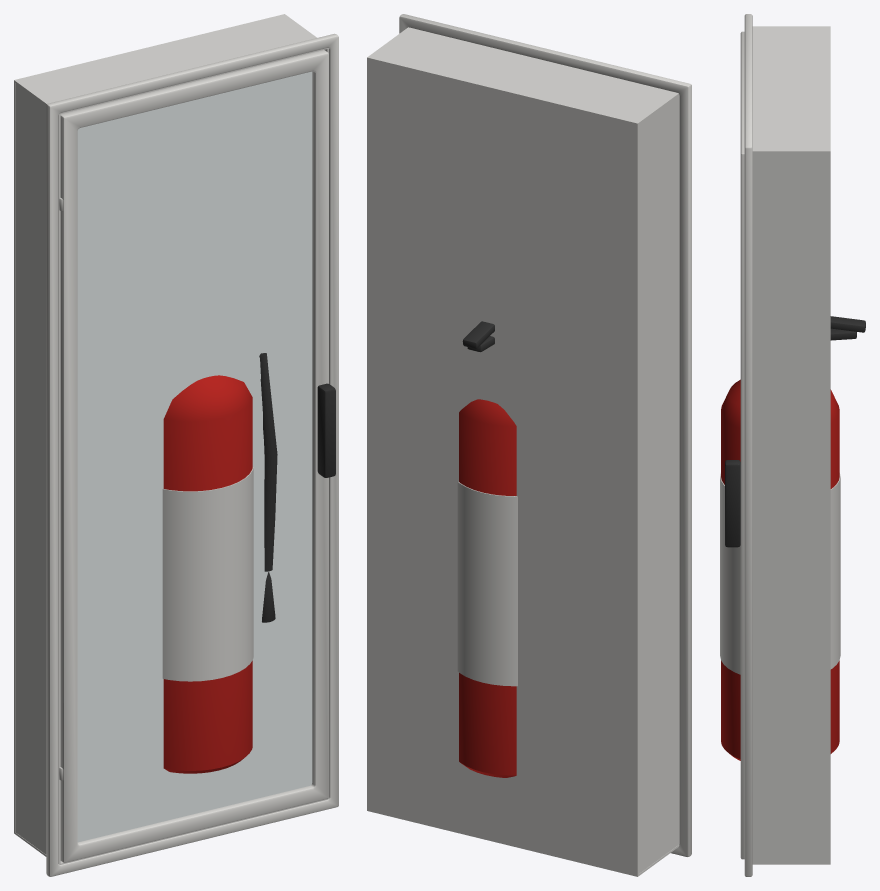
Rendered from Kit_ExtinguisherCabinet.fbx.
3 renders of one model, left to right at view 1: azimuth 30°, elevation 25°; view 2: azimuth 150°, elevation 25°; view 3: azimuth 270°, elevation 25°, orthographic. The views are drawn at different scales.
Visible parts, largest first — view 1: Kit_ExtinguisherCabinet_LOD0; view 2: Kit_ExtinguisherCabinet_LOD0; view 3: Kit_ExtinguisherCabinet_LOD0.
Part boxes in pixels (bbox=[...]): Kit_ExtinguisherCabinet_LOD0: bbox=[14, 14, 338, 876]; Kit_ExtinguisherCabinet_LOD0: bbox=[367, 14, 691, 876]; Kit_ExtinguisherCabinet_LOD0: bbox=[720, 14, 865, 876].
Size of what is drawn, in the model's own units: 0.24 by 0.61 by 0.1104.
